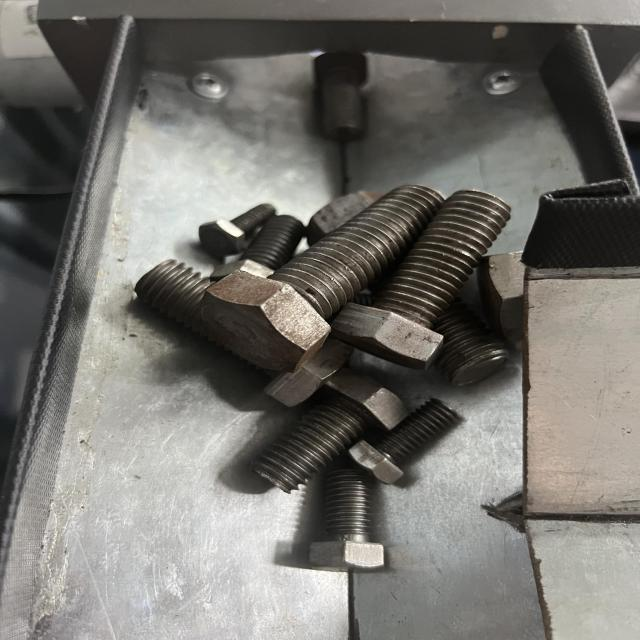bolt: (193, 182, 518, 370)
